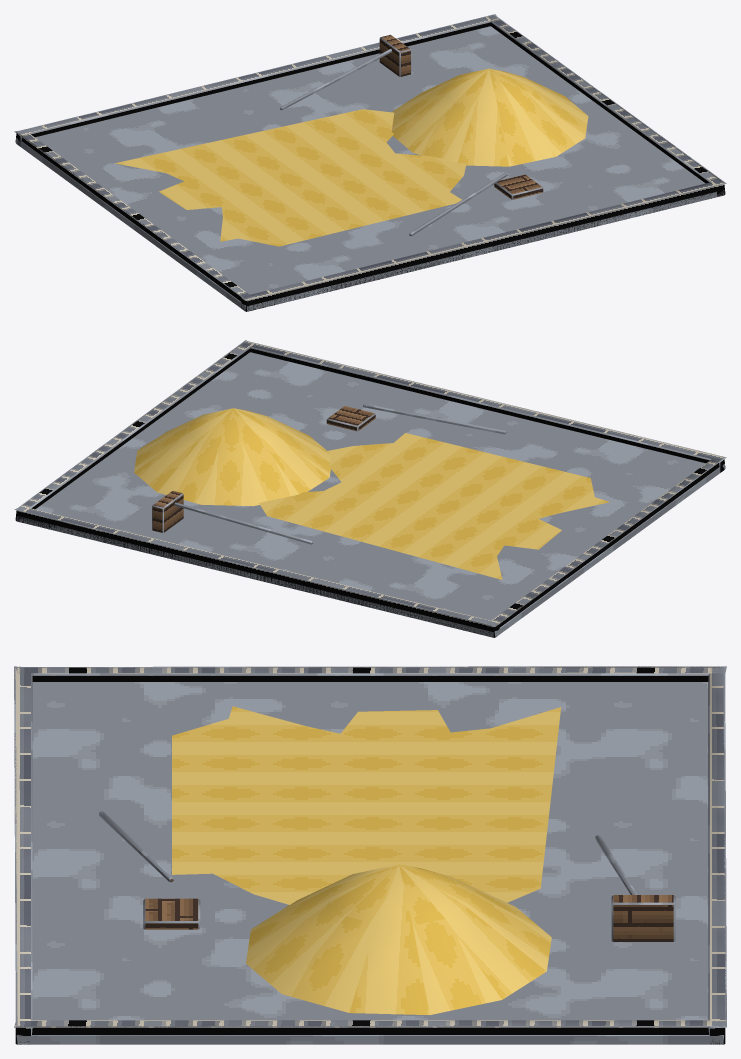
File: cn_threshing_ground_1.glb
3 renders of one model, top to bottom at view 1: azimuth 30°, elevation 25°; view 2: azimuth 150°, elevation 25°; view 3: azimuth 270°, elevation 25°, orthographic. The views are drawn at different scales.
Visible parts, largest first — view 1: cn_threshing_ground_2; view 2: cn_threshing_ground_2; view 3: cn_threshing_ground_2.
Part boxes in pixels (x1,y1,x2,y2): cn_threshing_ground_2: [14, 14, 726, 311]; cn_threshing_ground_2: [14, 340, 726, 637]; cn_threshing_ground_2: [14, 666, 726, 1044].
Bounding box in the file's own units: 6.03 × 0.75 × 5.03.
Materials: 5 (5 with a texture image).
